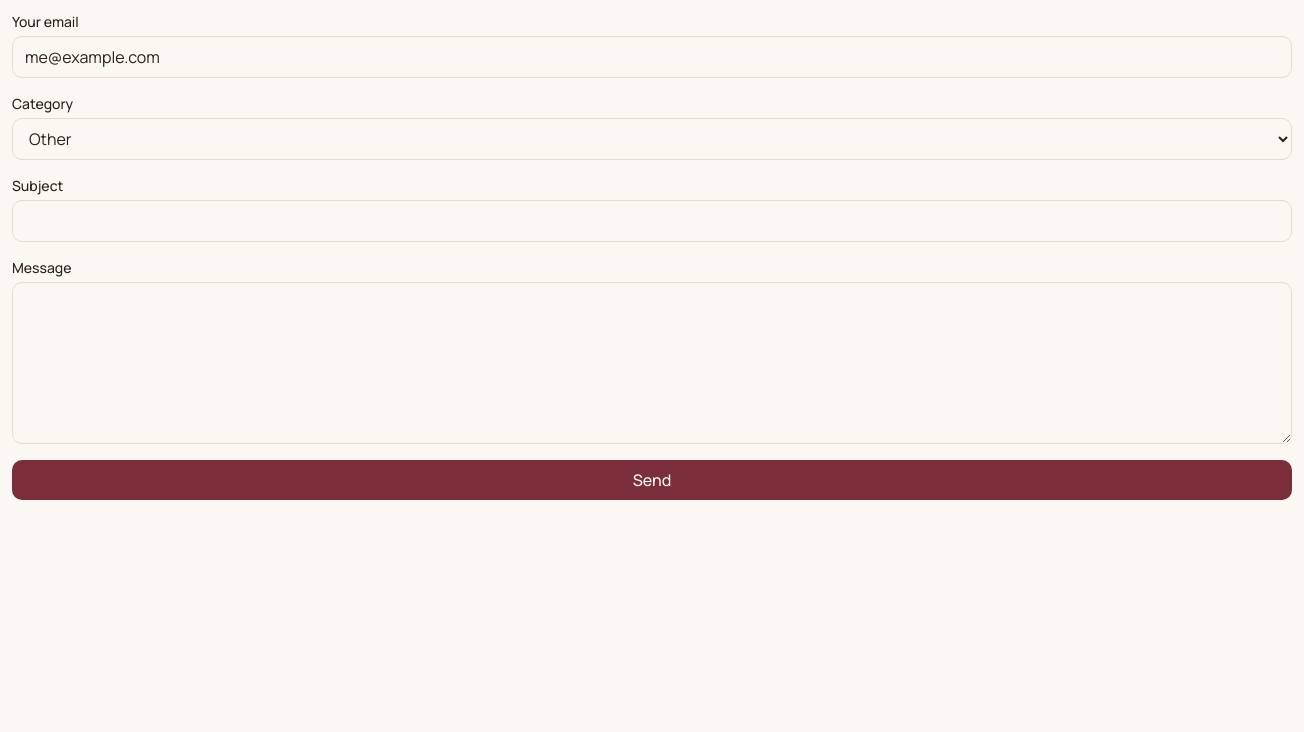
SupportRequestForm › shows a server error without crashing
Type "x" into the field labelled "Subject" at (652, 221), box 12,200 -> 1292,242
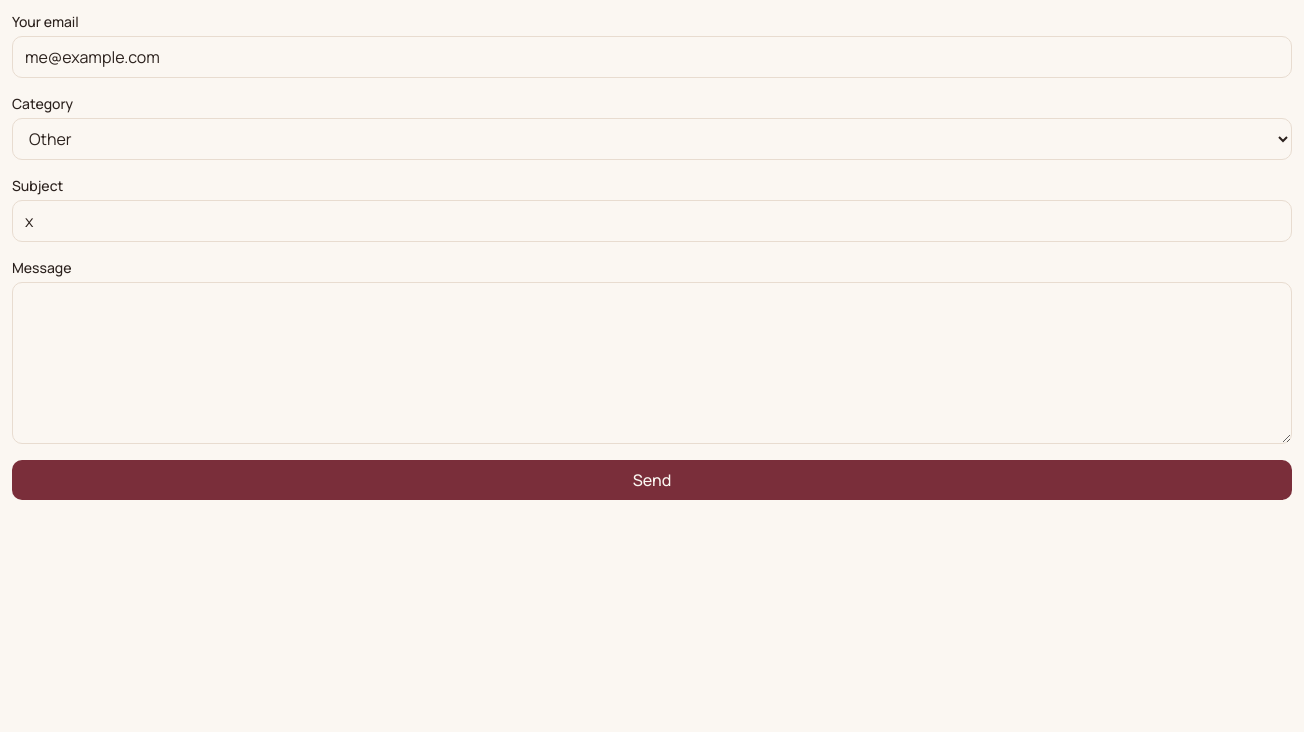
Type "y" into the text box labelled "Message" at (652, 363), box 12,282 -> 1292,444
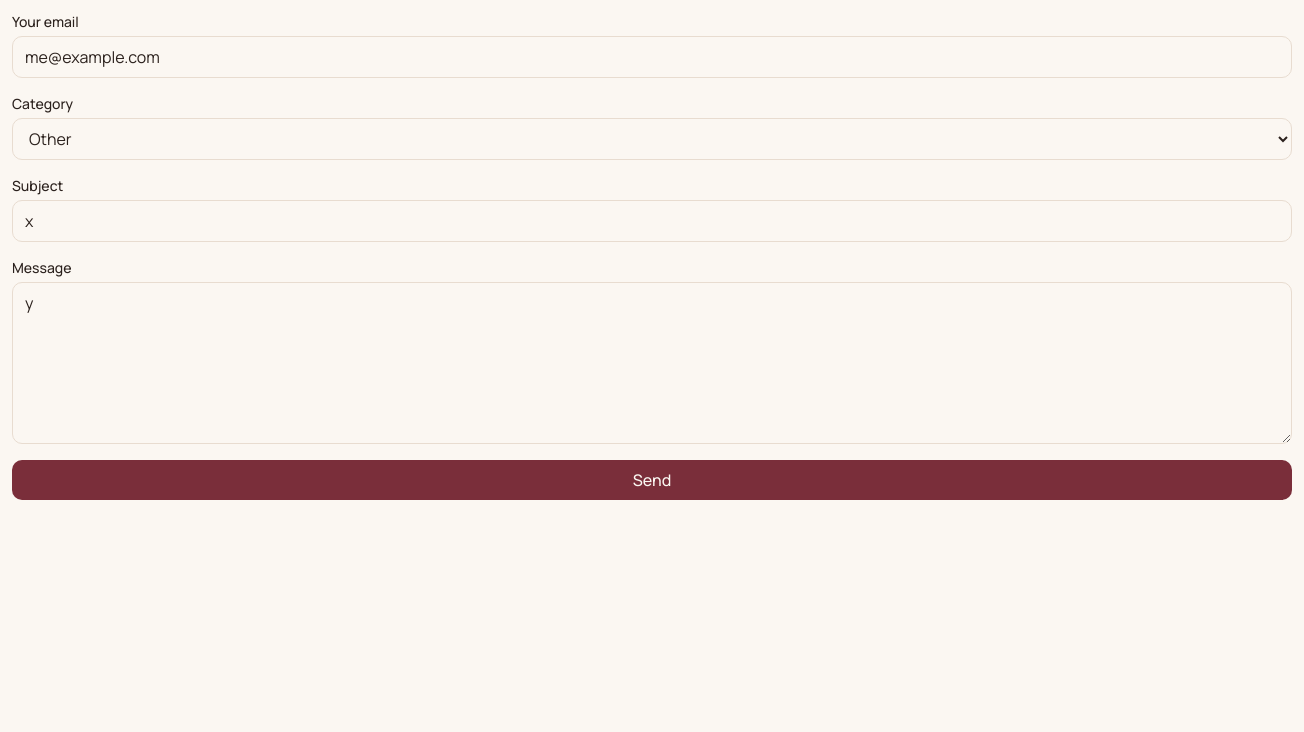
Click the button "Send" at (652, 480), box 12,460 -> 1292,500
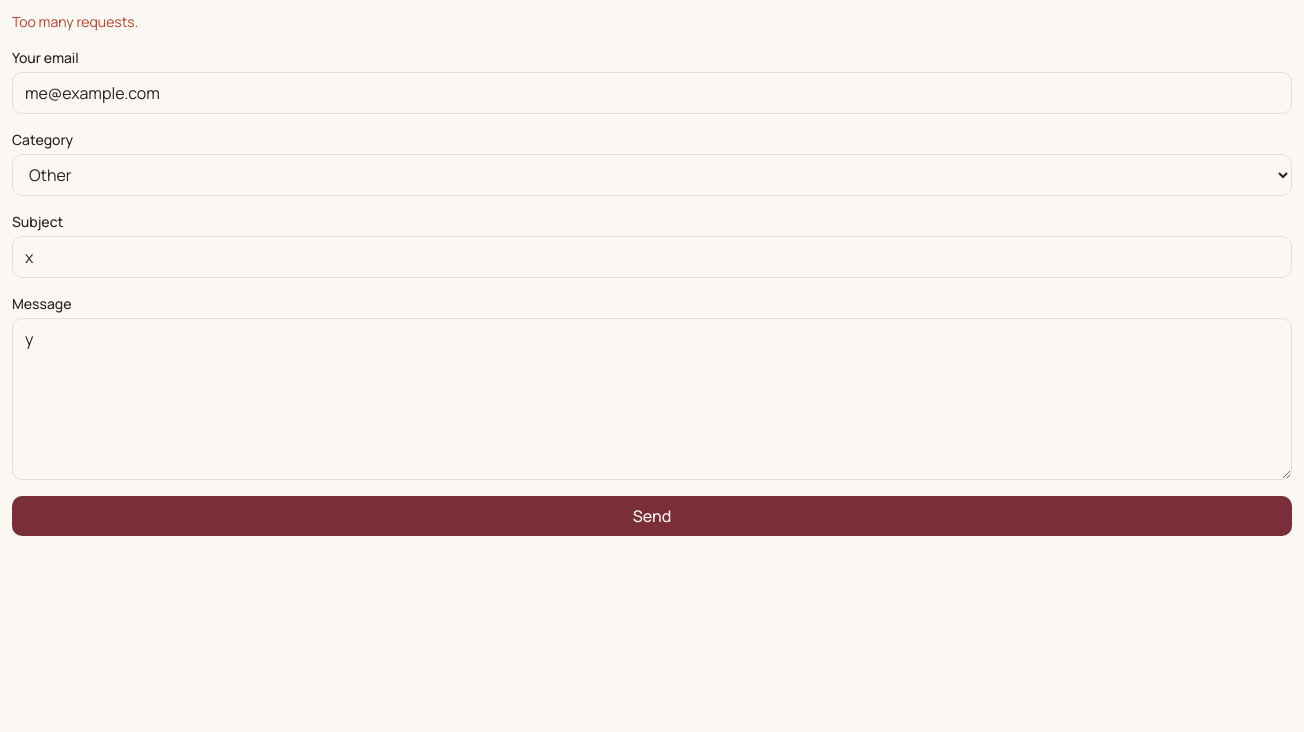
Check: the message reads "Too many requests.", box 12,12 -> 138,31
